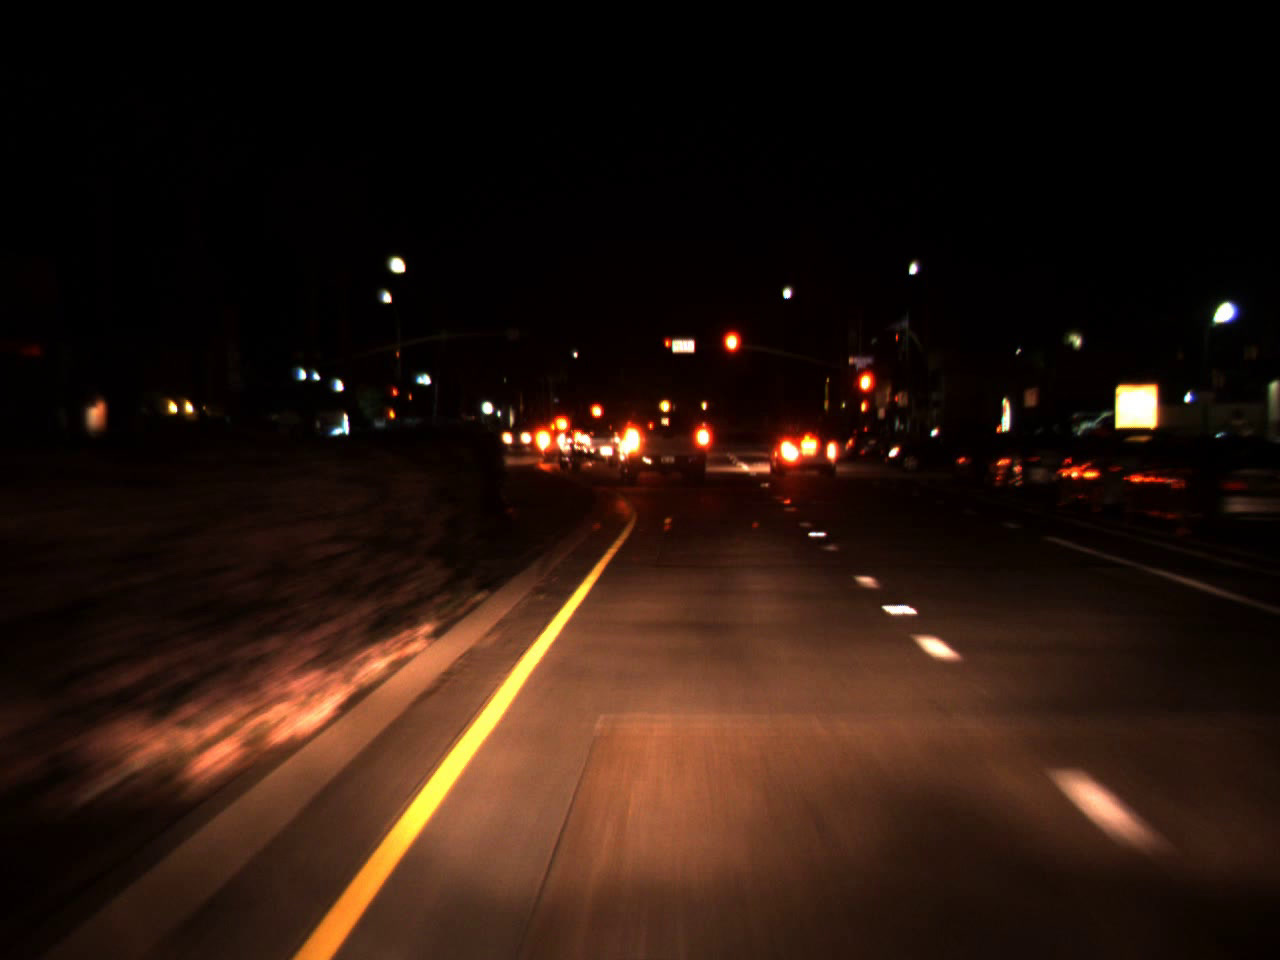stop: (720, 327, 744, 381), (855, 367, 876, 421), (663, 338, 673, 354), (392, 387, 398, 405)
